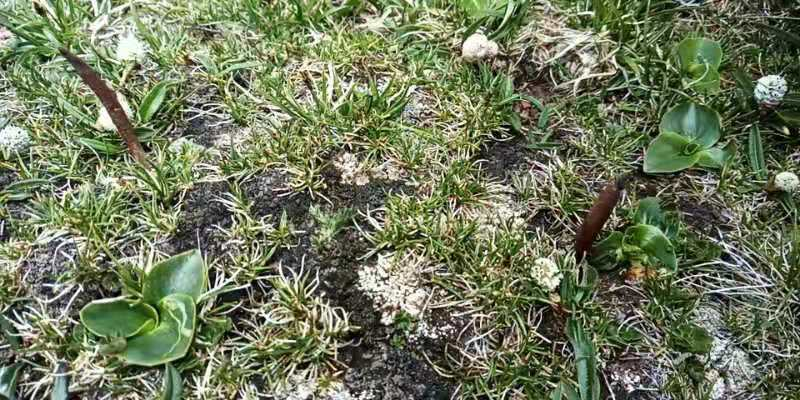Chongcao: (59, 47, 148, 162), (574, 184, 621, 260)
